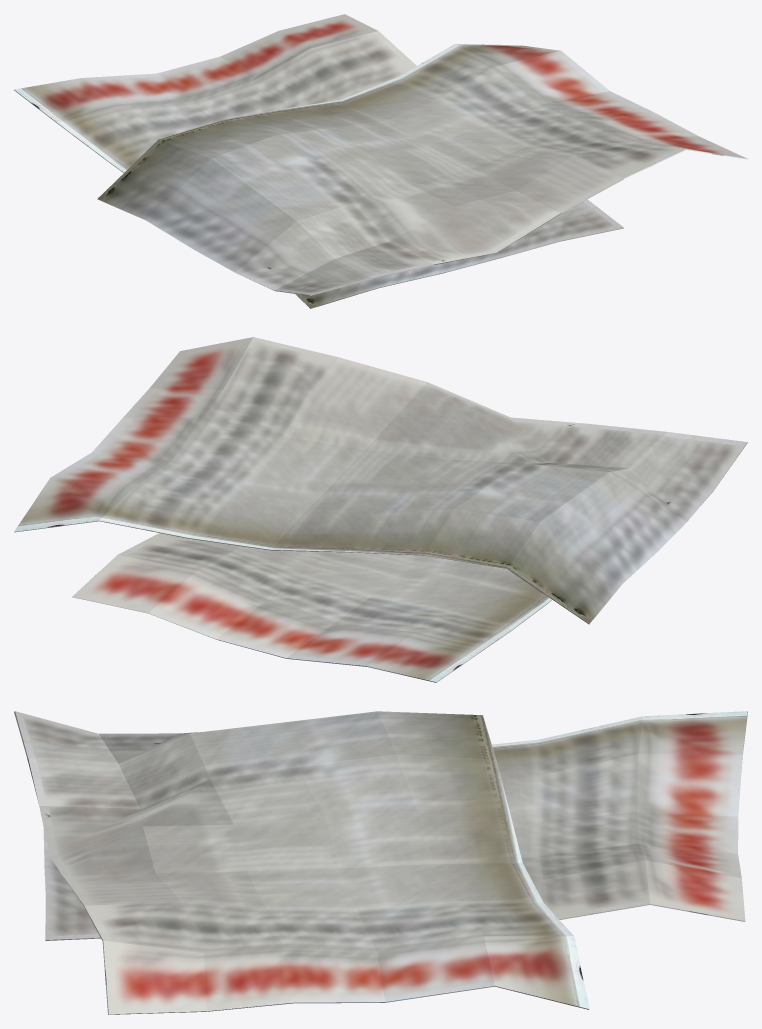
File: Newspapers1.fbx
3 renders of one model, top to bottom at view 1: azimuth 30°, elevation 25°; view 2: azimuth 150°, elevation 25°; view 3: azimuth 270°, elevation 25°, orthographic. The views are drawn at different scales.
Visible parts, largest first — view 1: Plane; view 2: Plane; view 3: Plane.
Part boxes in pixels (x1,y1,x2,y2): Plane: [14, 14, 747, 308]; Plane: [14, 337, 747, 682]; Plane: [14, 711, 747, 1014].
Size of the model in its own units: 323 by 30.28 by 317.
1 material, 1 textured.
